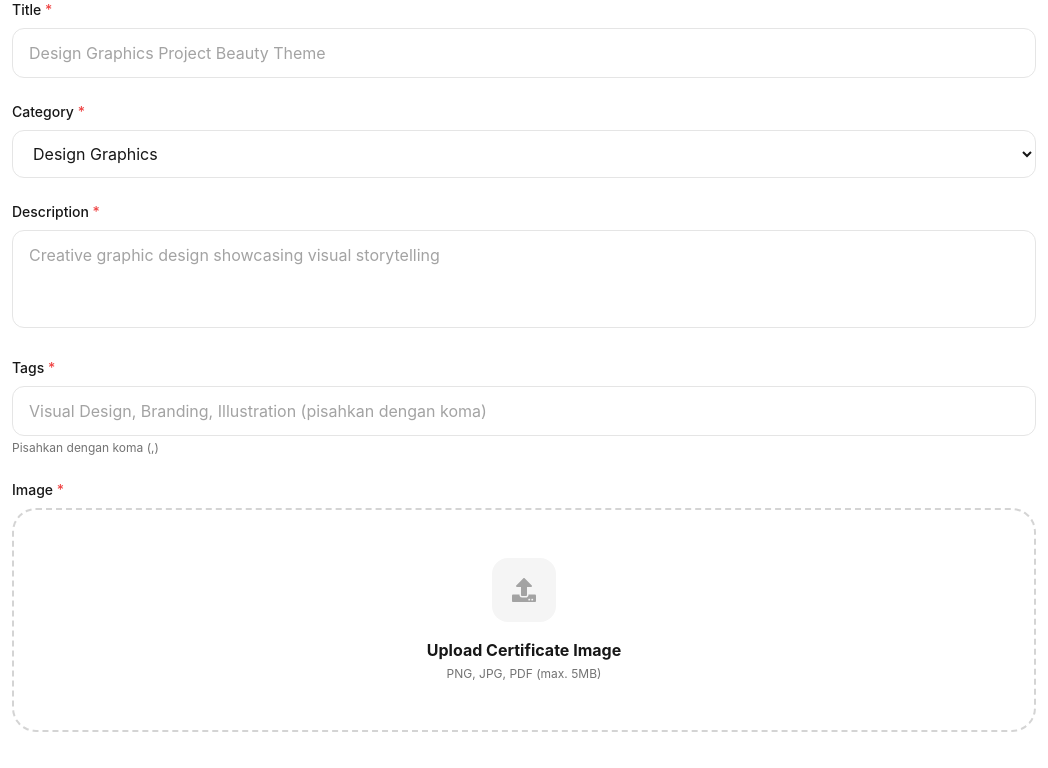
Test: PortfolioForm › validates URL format for image
In the field with placeholder "Design Graphics Project Beauty Theme": (524, 53) [12,28,1036,78], type "Test"
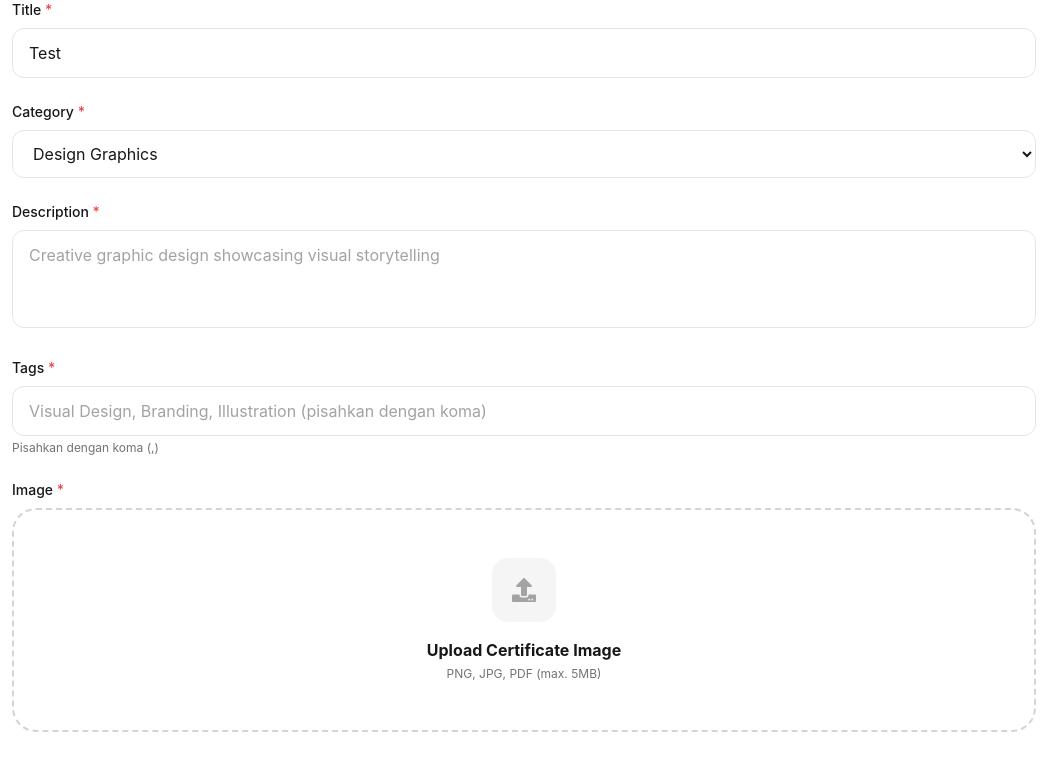
In the text box with placeholder "Creative graphic design showcasing visual storytelling": (524, 279) [12,230,1036,328], type "Test"
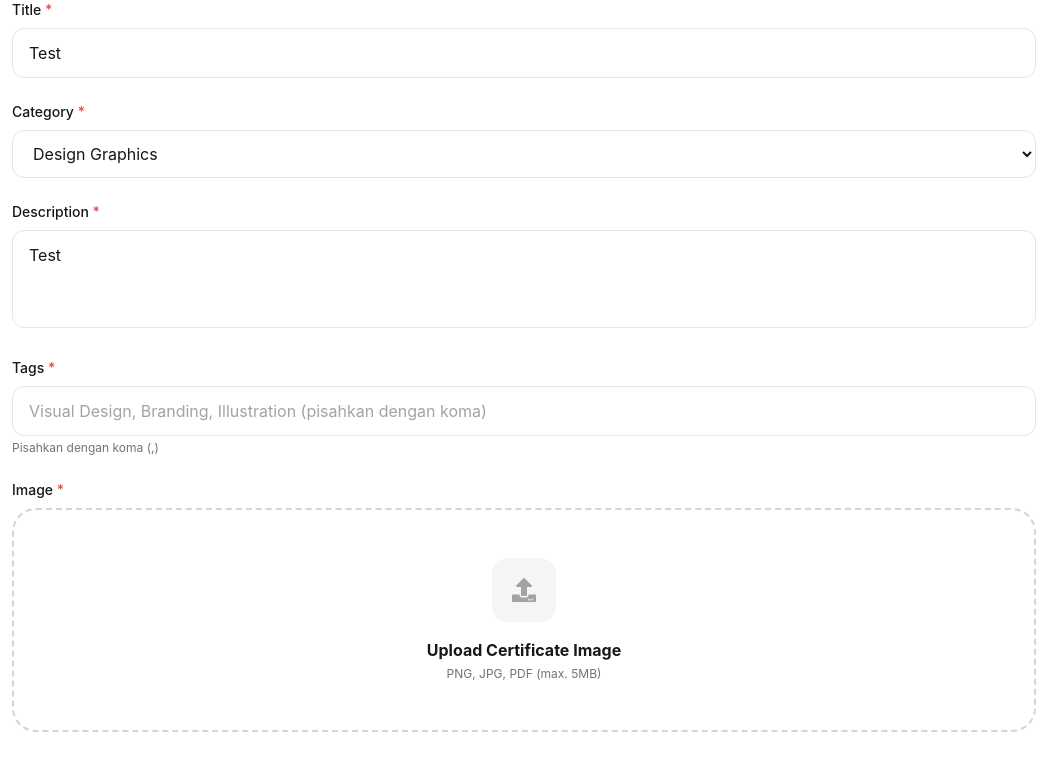
In the field with placeholder "Visual Design, Branding": (524, 411) [12,386,1036,436], type "test"
(page scrolled)
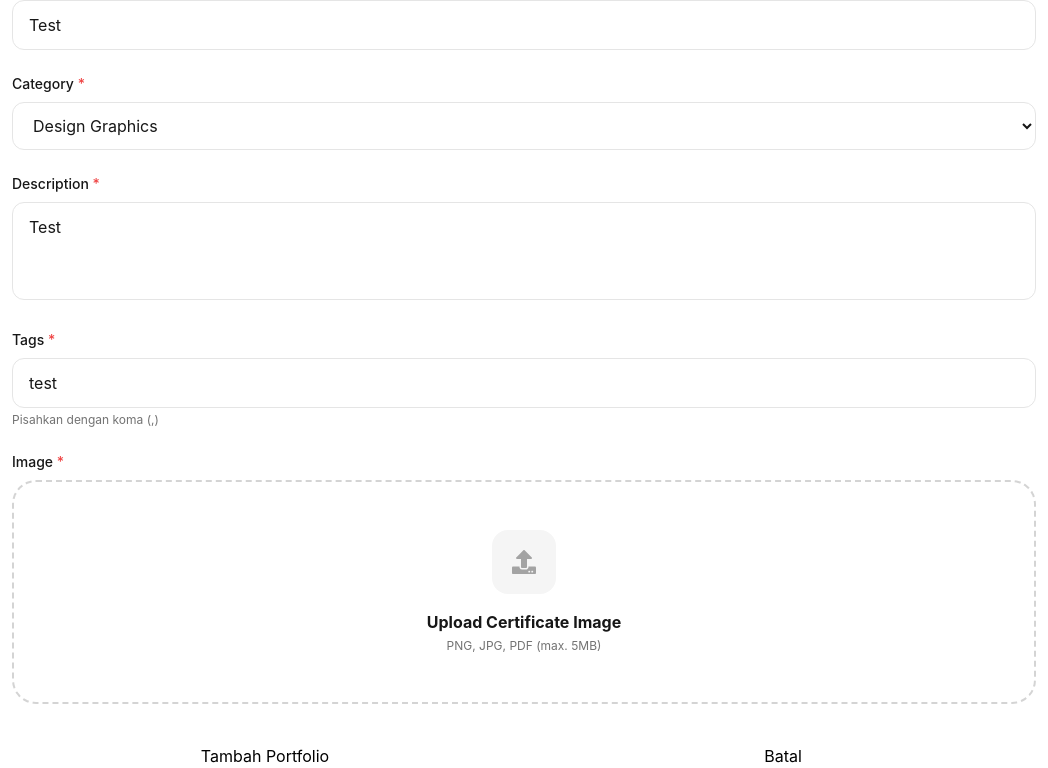
// Don't upload image (invalid state)
Click the button "Tambah Portfolio": (265, 756) [12,744,518,767]
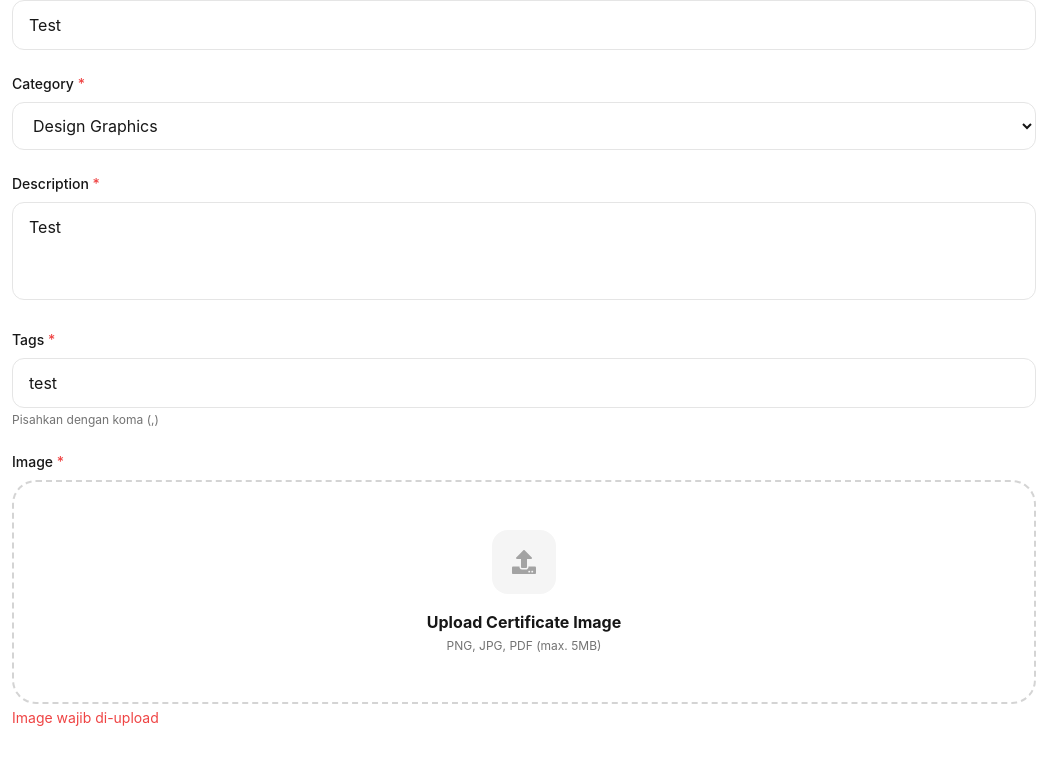
Now the text "Image wajib di-upload" is shown, box [12,709,159,726]
